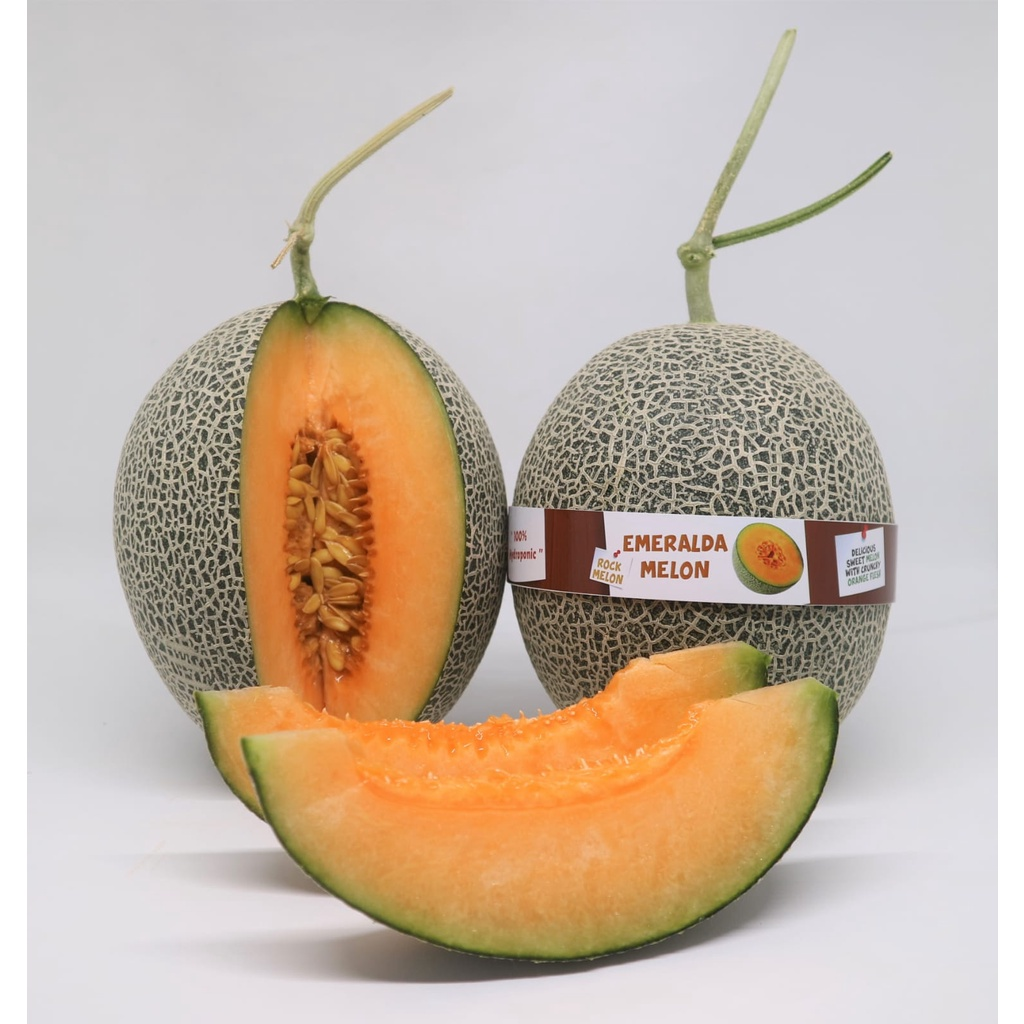Melon: (235, 696, 827, 959)
